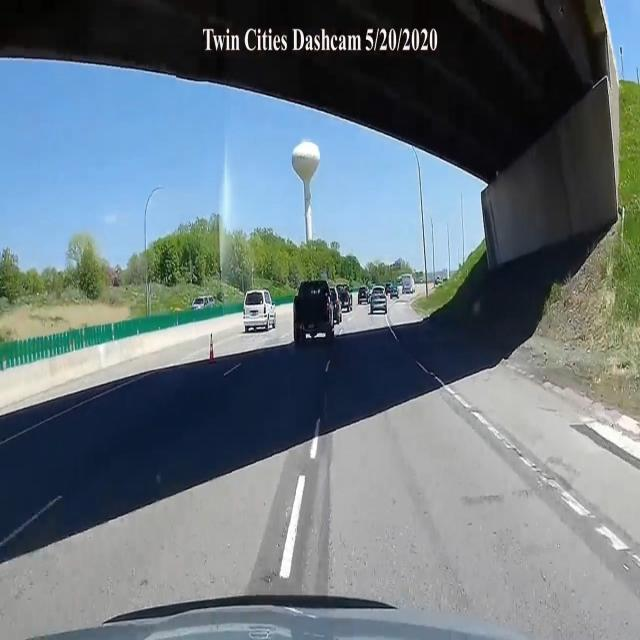cone: (205, 329, 218, 367)
